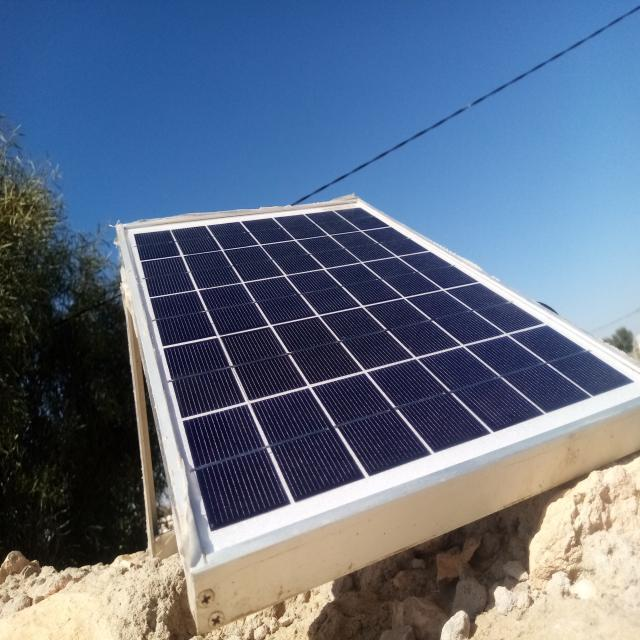Normal Solar Panel: (122, 195, 640, 576)
